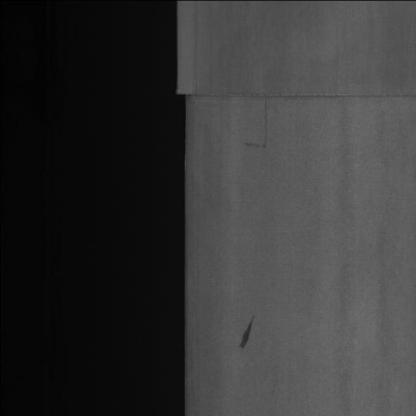welding_line: (170, 77, 414, 110)
